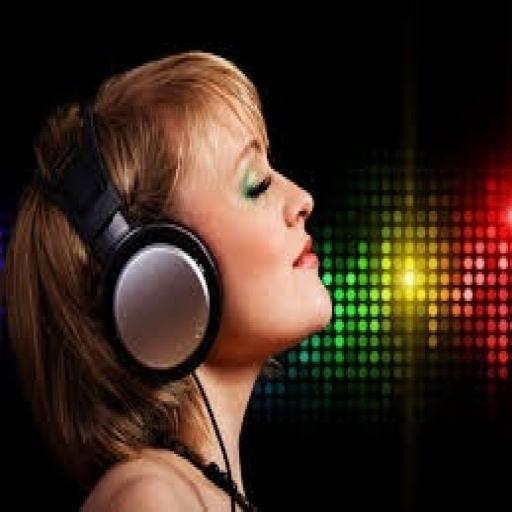listening_to_music: (2, 48, 336, 510)
